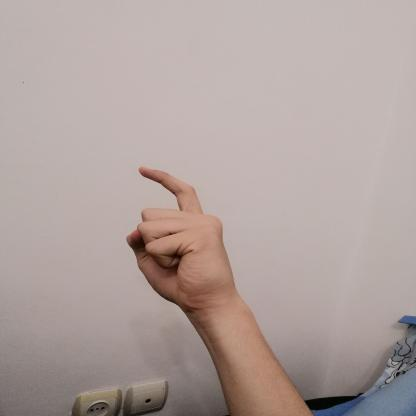RAA: (115, 160, 254, 312)
